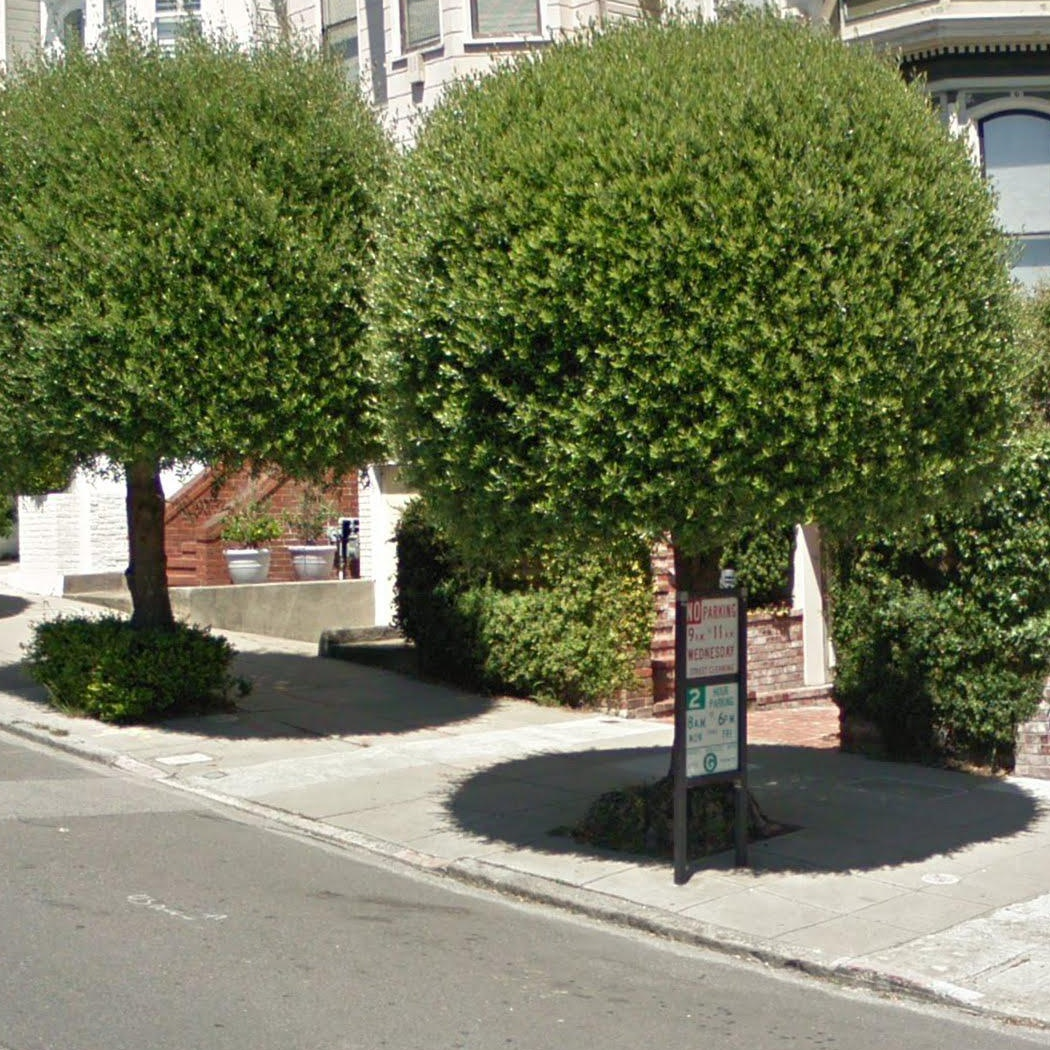2 Hour Parking: (684, 680, 739, 779)
No Parking: (684, 595, 740, 680)
